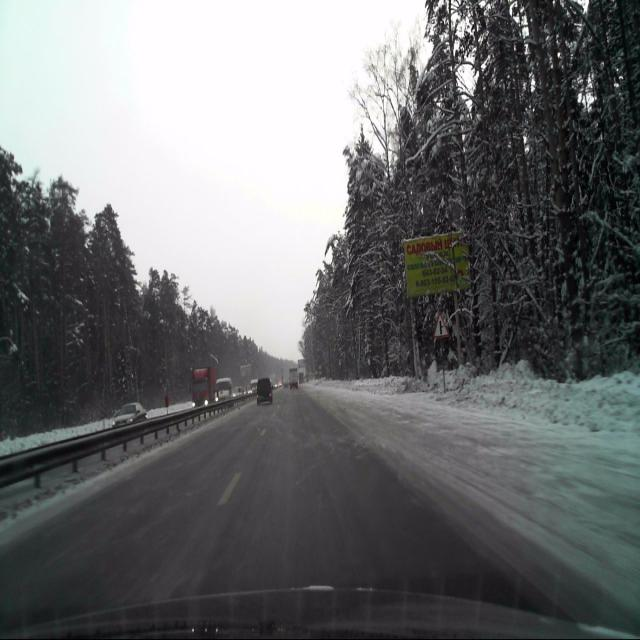road sign: (432, 311, 448, 340)
